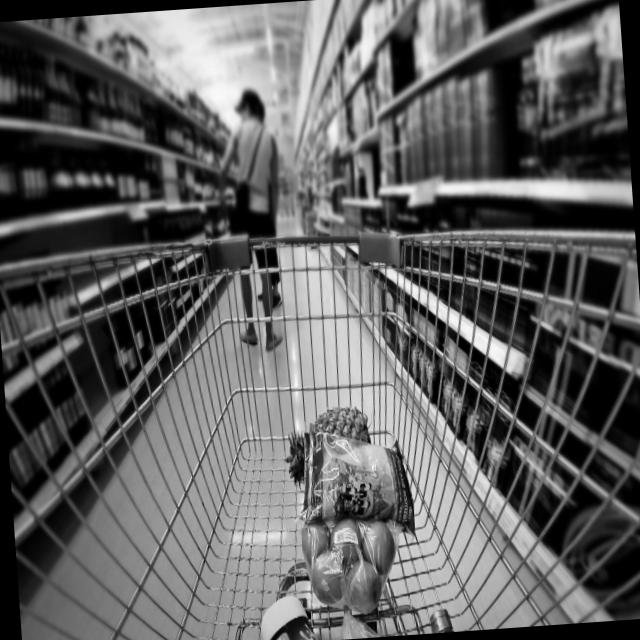apple: (298, 514, 398, 618)
milk: (254, 586, 317, 640)
pineapple: (277, 404, 376, 482)
